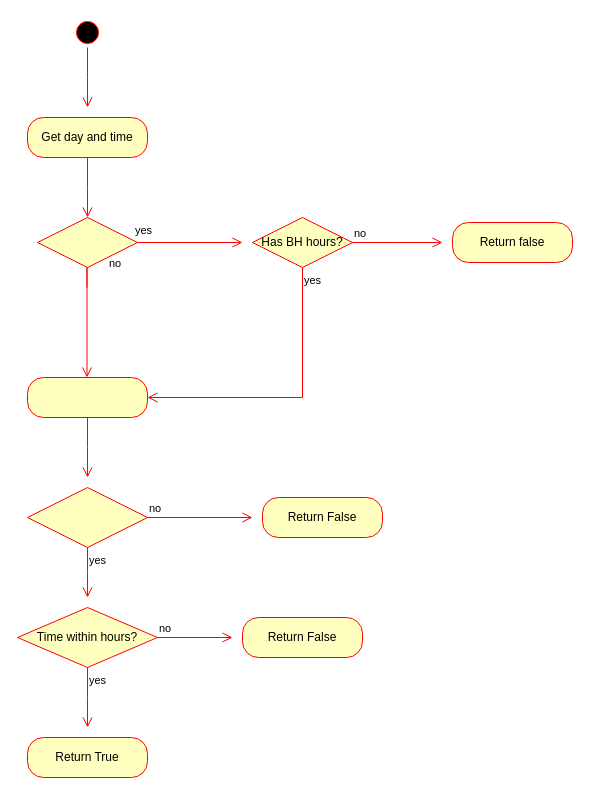
This 590x795 diagram has some shape labels left out. The shapes that lost their labels are listed below. From the top down, each one's centre as x and y in pixels, then its label:
At (x=87, y=242): "Bank Holiday?".
At (x=87, y=397): "Look up opening hours".
At (x=87, y=517): "Hours exist for day?".
